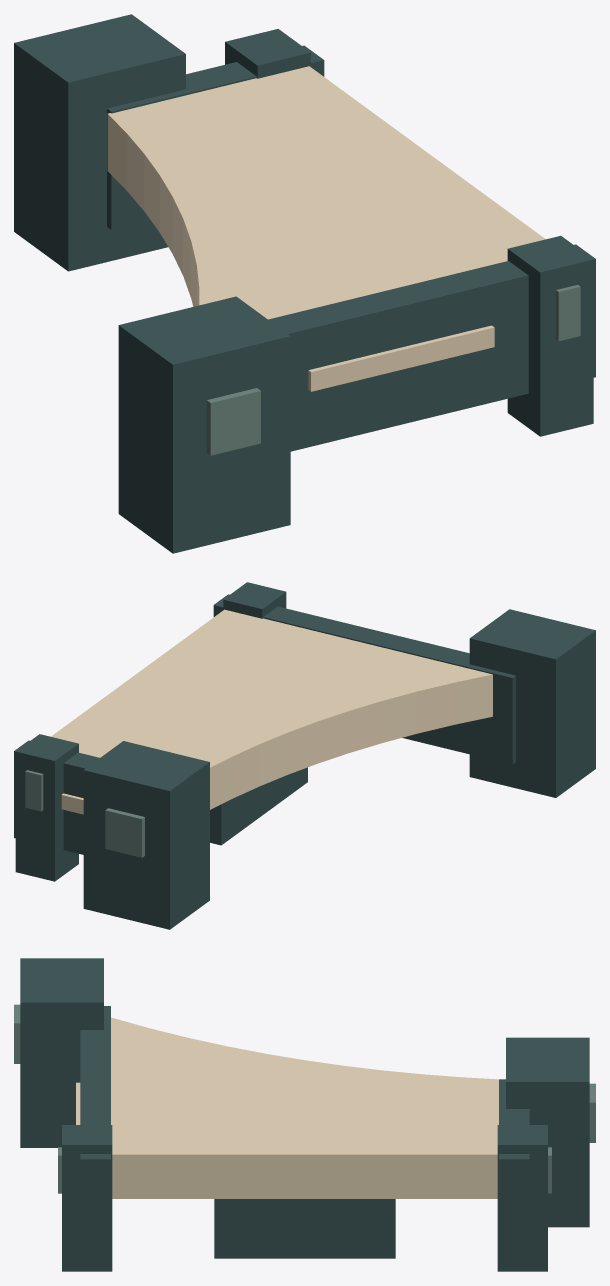
The model's file is Pier_Angled_20.glb.
3 renders of one model, top to bottom at view 1: azimuth 30°, elevation 25°; view 2: azimuth 150°, elevation 25°; view 3: azimuth 270°, elevation 25°, orthographic. The views are drawn at different scales.
Visible parts, largest first — view 1: Pier_Angled_20; view 2: Pier_Angled_20; view 3: Pier_Angled_20.
Boxes of the visible parts, bbox=[...] form: Pier_Angled_20: bbox=[14, 14, 595, 553]; Pier_Angled_20: bbox=[14, 582, 595, 929]; Pier_Angled_20: bbox=[14, 958, 595, 1271].
Bounding box in the file's own units: 2.94 × 1.15 × 4.17.
